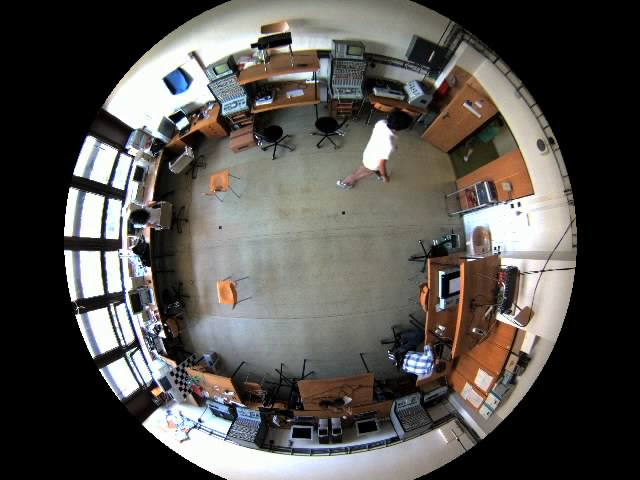person: (322, 108, 398, 191)
